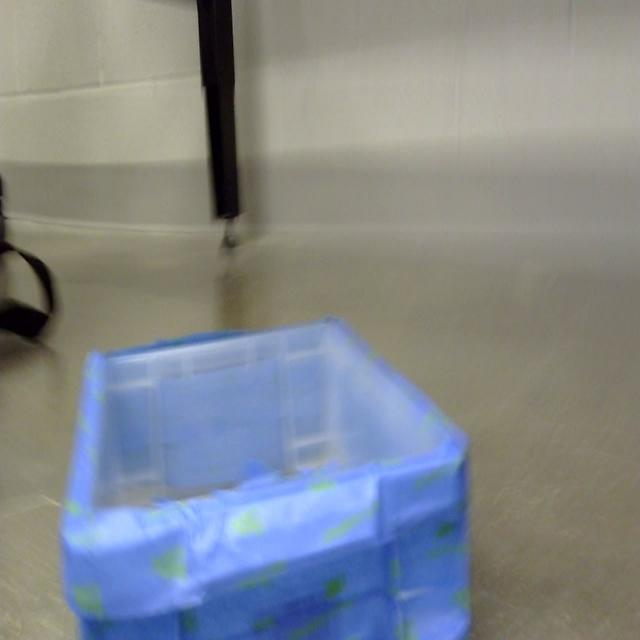bucket: (58, 317, 472, 640)
